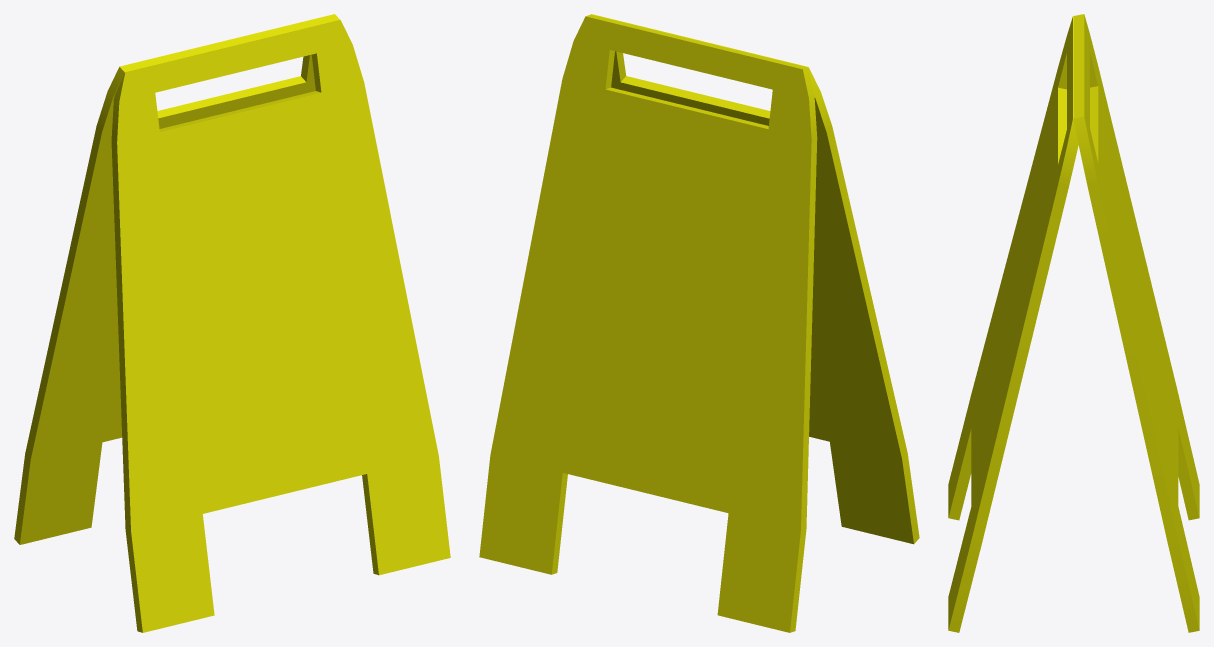
Rendered from GladBord.fbx.
3 renders of one model, left to right at view 1: azimuth 30°, elevation 25°; view 2: azimuth 150°, elevation 25°; view 3: azimuth 270°, elevation 25°, orthographic. The views are drawn at different scales.
Visible parts, largest first — view 1: pCube4; view 2: pCube4; view 3: pCube4.
Part boxes in pixels (left/top/right/bottom): pCube4: left=14, top=14, right=450, bottom=632; pCube4: left=479, top=14, right=919, bottom=632; pCube4: left=948, top=14, right=1199, bottom=632.
Size of the model in its own units: 0.25 by 0.393 by 0.1809.
